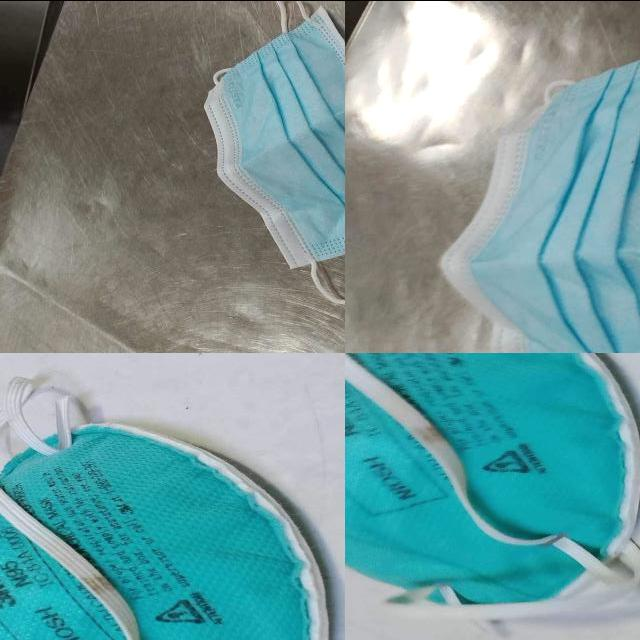General: (0, 376, 331, 639), (343, 351, 638, 612)
Infectious: (439, 58, 638, 354), (202, 6, 346, 305)
